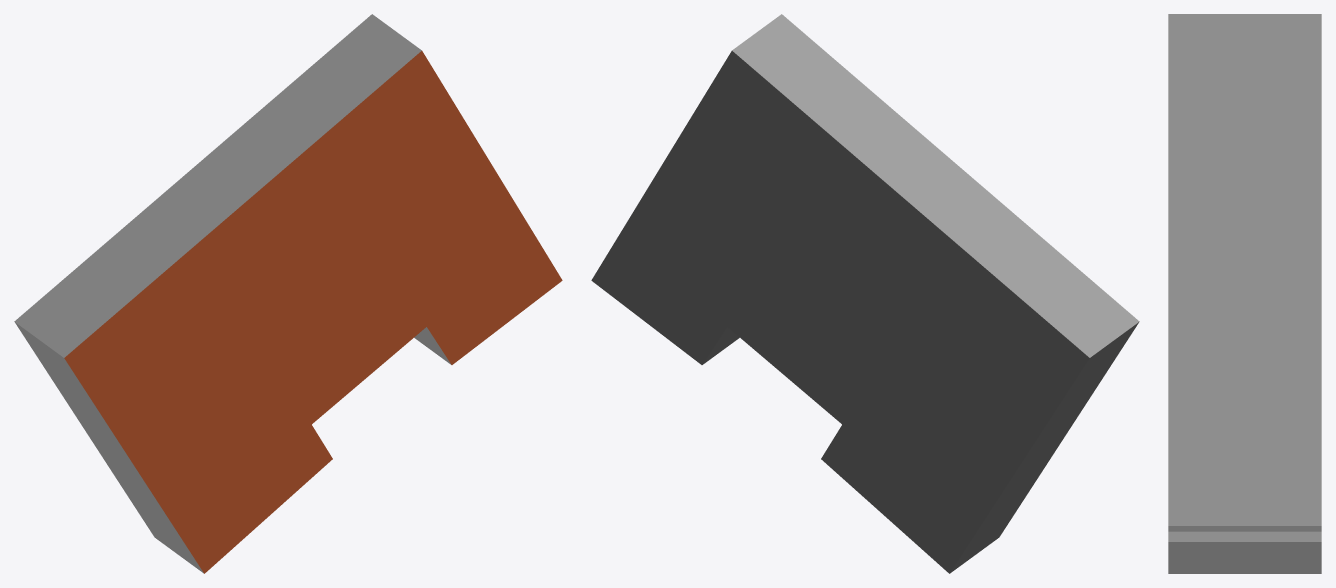
File: construction_6507_assumed_A_Casa_h6m.obj
The picture shows the model from 3 angles, left to right: view 1: azimuth 30°, elevation 25°; view 2: azimuth 150°, elevation 25°; view 3: azimuth 270°, elevation 25°; orthographic projection. The views are drawn at different scales.
Parts seen in each view (by area): view 1: construction_6507_assumed_A_Casa; view 2: construction_6507_assumed_A_Casa; view 3: construction_6507_assumed_A_Casa.
Boxes of the visible parts, x1,y1,x2,y2 form: construction_6507_assumed_A_Casa: [14, 14, 562, 573]; construction_6507_assumed_A_Casa: [591, 14, 1139, 573]; construction_6507_assumed_A_Casa: [1168, 14, 1321, 573].
Bounding box in the file's own units: 34.63 × 31.22 × 6.
